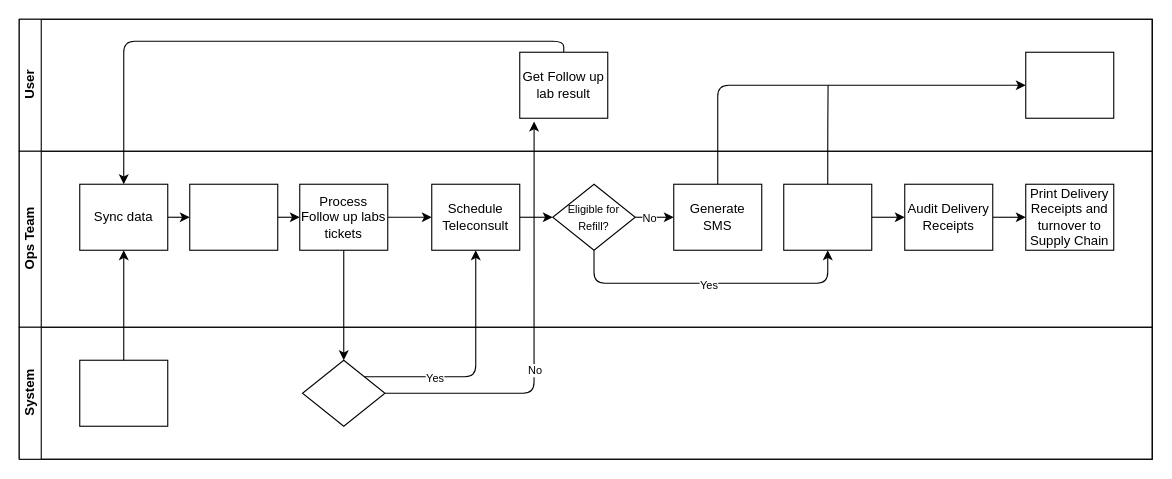
This 1172x479 diagram has some shape labels left out. The centre of each missing label's shape, as x and y in pixels:
Generate Delivery Receipts and SMS: the point at 827,216
Get members due for refill: the point at 123,392
Has Valid Lab Results?: the point at 343,392
Receive SMS: the point at 1069,84
Update Cancelled Medicines: the point at 233,216
